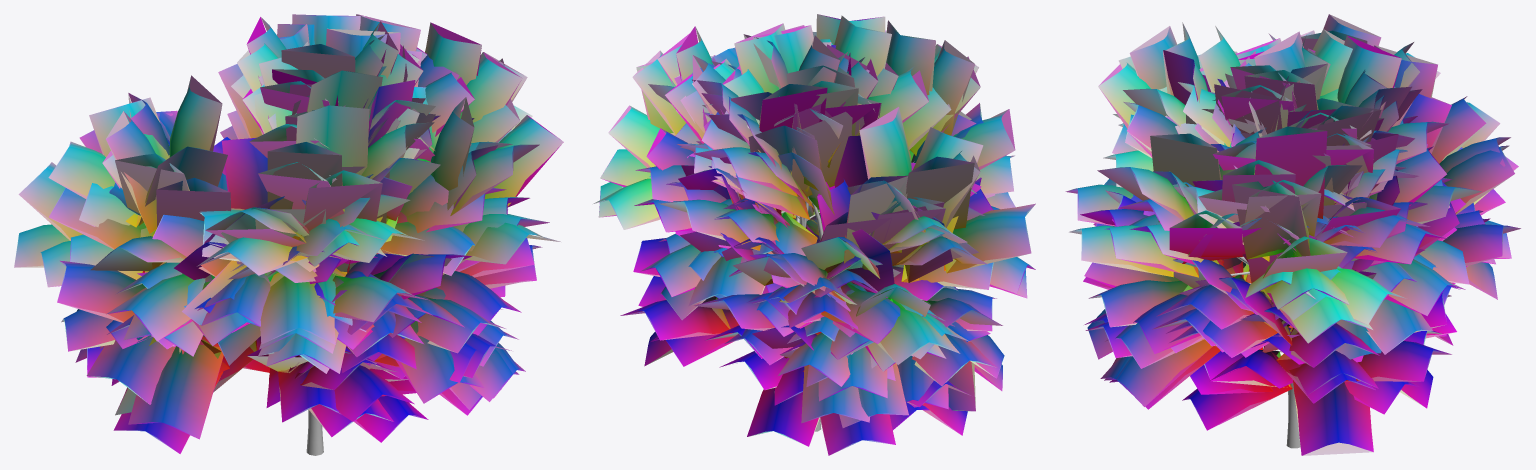
File: elm_03_4.fbx
3 views of the same model, side by side, from view 1: azimuth 30°, elevation 25°; view 2: azimuth 150°, elevation 25°; view 3: azimuth 270°, elevation 25° (orthographic). The views are drawn at different scales.
Visible parts, largest first — view 1: elm_rought_leaves_03_4_lod_0, elm_rought_leaves_03_4_shadow, elm_rought_tree_03_4_lod_0; view 2: elm_rought_leaves_03_4_lod_0, elm_rought_leaves_03_4_shadow; view 3: elm_rought_leaves_03_4_lod_0, elm_rought_leaves_03_4_shadow, elm_rought_tree_03_4_lod_0.
Part boxes in pixels (<box>): elm_rought_leaves_03_4_lod_0: <box>14,14,563,453</box>; elm_rought_leaves_03_4_shadow: <box>14,14,563,452</box>; elm_rought_tree_03_4_lod_0: <box>306,273,333,455</box>; elm_rought_leaves_03_4_lod_0: <box>593,14,1035,455</box>; elm_rought_leaves_03_4_shadow: <box>596,14,1035,453</box>; elm_rought_leaves_03_4_lod_0: <box>1067,14,1519,455</box>; elm_rought_leaves_03_4_shadow: <box>1065,14,1520,455</box>; elm_rought_tree_03_4_lod_0: <box>1230,256,1300,448</box>.
Size of what is drawn, in the model's own units: 9.32 by 8.1 by 8.34.
